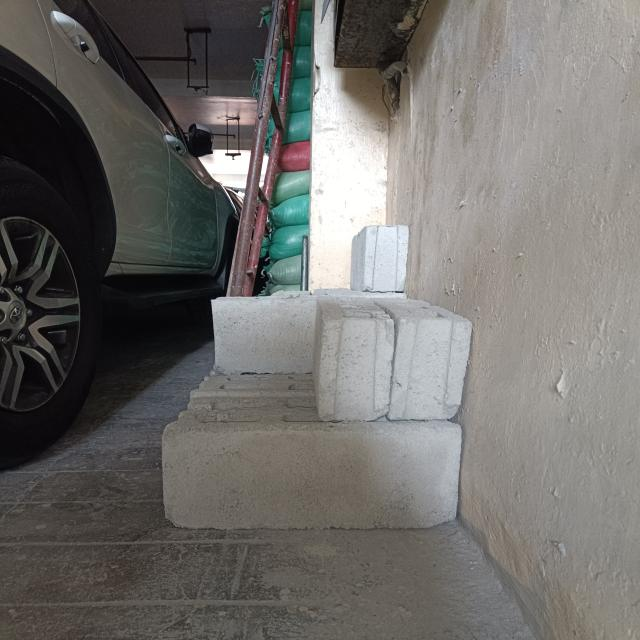Hollow blocks: (168, 424, 456, 528), (325, 300, 397, 427), (395, 312, 470, 422), (213, 297, 316, 366), (200, 370, 317, 399), (199, 397, 316, 426), (368, 227, 407, 295)
